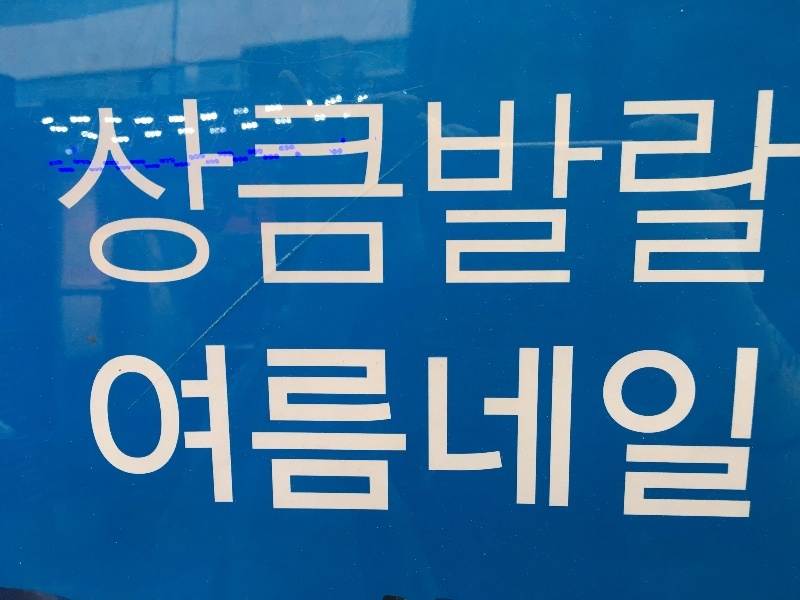text: (97, 85, 112, 294), (113, 85, 128, 294), (129, 85, 144, 294), (145, 85, 160, 294), (161, 85, 176, 294), (177, 85, 192, 294), (193, 85, 208, 294), (209, 85, 224, 294), (225, 85, 240, 294), (241, 85, 256, 294), (257, 85, 272, 294), (273, 85, 288, 294), (289, 85, 304, 294), (305, 85, 320, 294), (321, 85, 336, 294), (337, 85, 352, 294), (353, 85, 368, 294), (369, 85, 384, 294), (385, 85, 400, 294), (401, 85, 416, 294), (417, 85, 432, 294), (433, 85, 448, 294), (449, 85, 464, 294), (465, 85, 480, 294), (481, 85, 496, 294), (497, 85, 512, 294), (513, 85, 528, 294), (529, 85, 544, 294), (545, 85, 560, 294), (561, 85, 576, 294), (577, 85, 592, 294), (593, 85, 608, 294), (609, 85, 624, 294), (625, 85, 640, 294), (641, 85, 656, 294), (657, 85, 672, 294), (673, 85, 688, 294), (689, 85, 704, 294), (705, 85, 720, 294), (721, 85, 736, 294), (737, 85, 752, 294), (753, 85, 768, 294), (769, 85, 784, 294), (785, 85, 800, 294), (81, 338, 96, 526), (97, 338, 112, 526), (113, 338, 128, 526), (129, 338, 144, 526), (145, 338, 160, 526), (161, 338, 176, 526), (177, 338, 192, 526), (193, 338, 208, 526), (209, 338, 224, 526), (225, 338, 240, 526), (241, 338, 256, 526), (257, 338, 272, 526), (273, 338, 288, 526), (289, 338, 304, 526), (305, 338, 320, 526), (321, 338, 336, 526), (337, 338, 352, 526), (353, 338, 368, 526), (369, 338, 384, 526), (385, 338, 400, 526), (401, 338, 416, 526), (417, 338, 432, 526), (433, 338, 448, 526), (449, 338, 464, 526), (465, 338, 480, 526), (481, 338, 496, 526), (497, 338, 512, 526), (513, 338, 528, 526), (529, 338, 544, 526), (545, 338, 560, 526), (561, 338, 576, 526), (577, 338, 592, 526), (593, 338, 608, 526), (609, 338, 624, 526), (625, 338, 640, 526), (641, 338, 656, 526), (657, 338, 672, 526), (673, 338, 688, 526), (689, 338, 704, 526), (705, 338, 720, 526), (721, 338, 736, 526), (737, 338, 752, 526), (753, 338, 766, 526), (91, 85, 96, 294), (79, 338, 80, 526)
